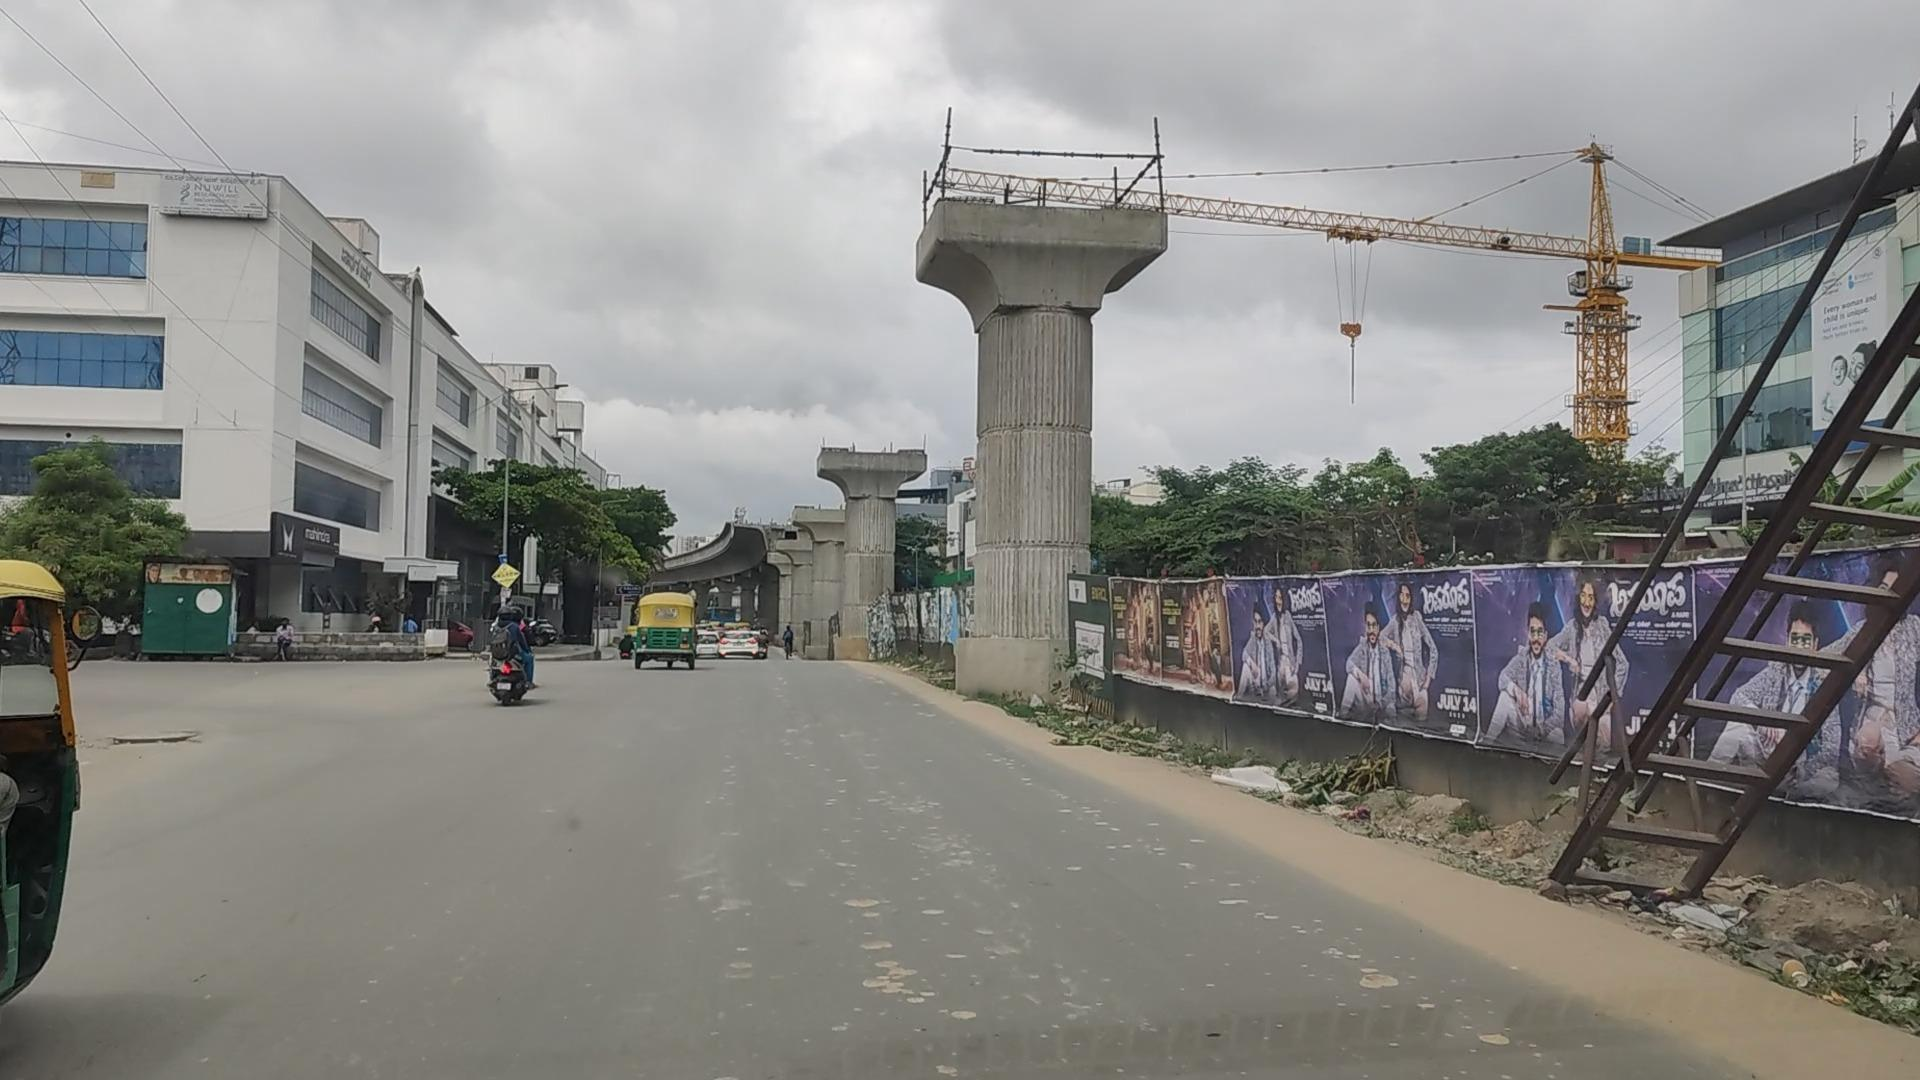LMV: (483, 600, 542, 707), (638, 596, 692, 670)
RoadDamages: (111, 723, 203, 761)
